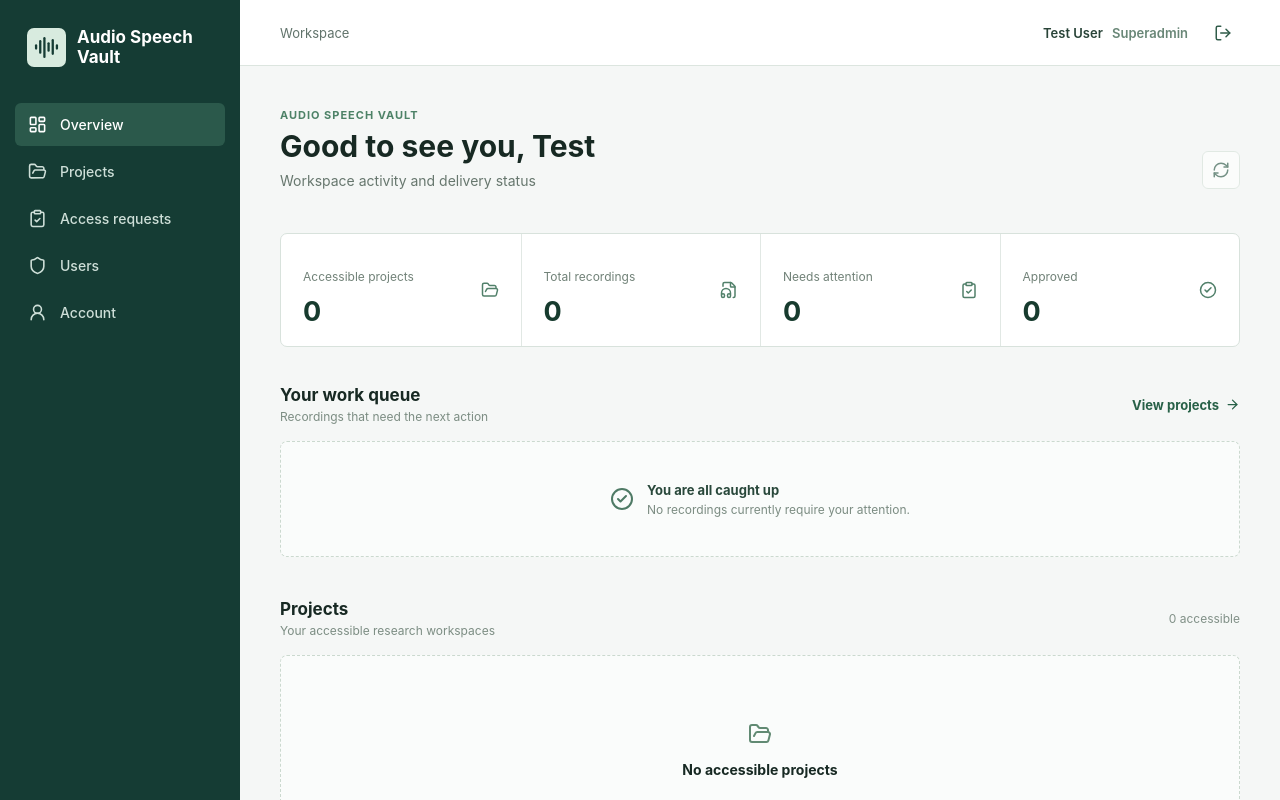
Test case: role dashboard › opens account management for superadmin
Click the button "Users": (120, 266) top-left (15, 244), bottom-right (225, 287)
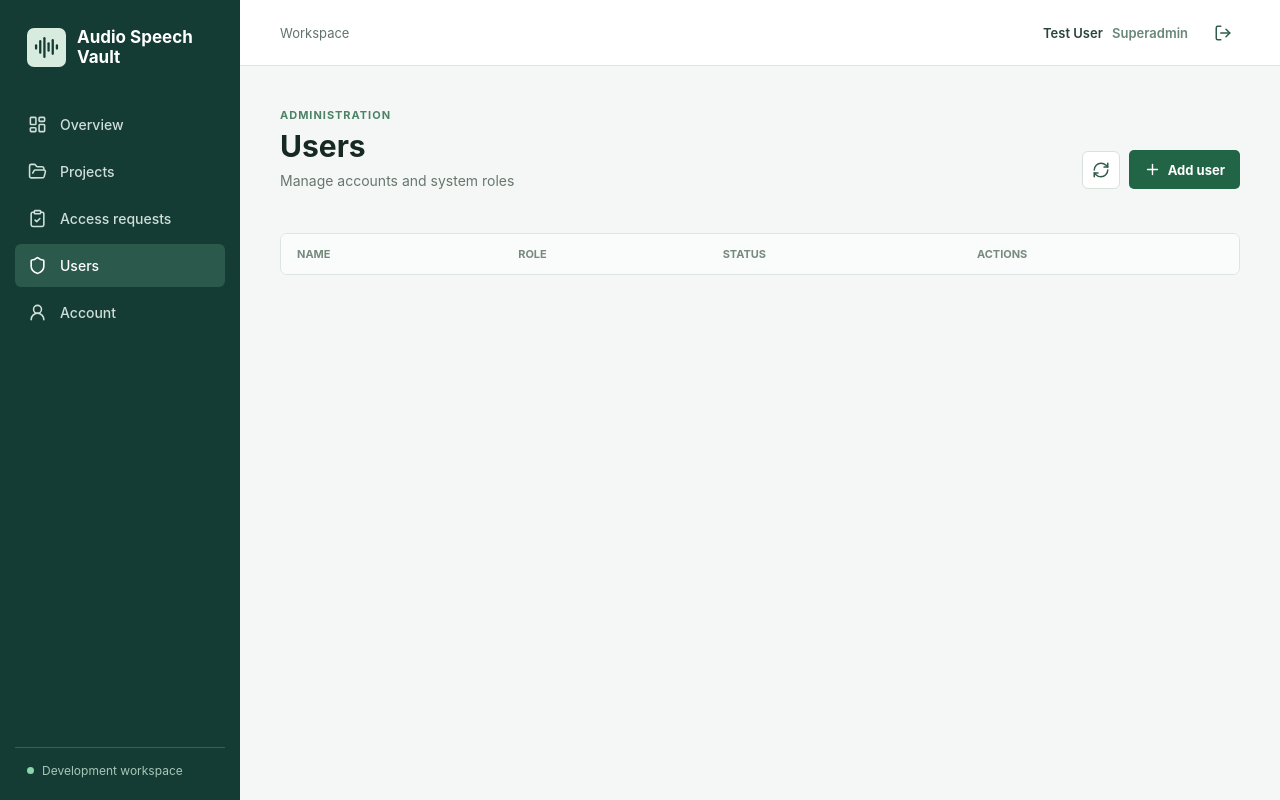
Result: the heading "Users" is shown at top-left (280, 128), bottom-right (366, 164)
